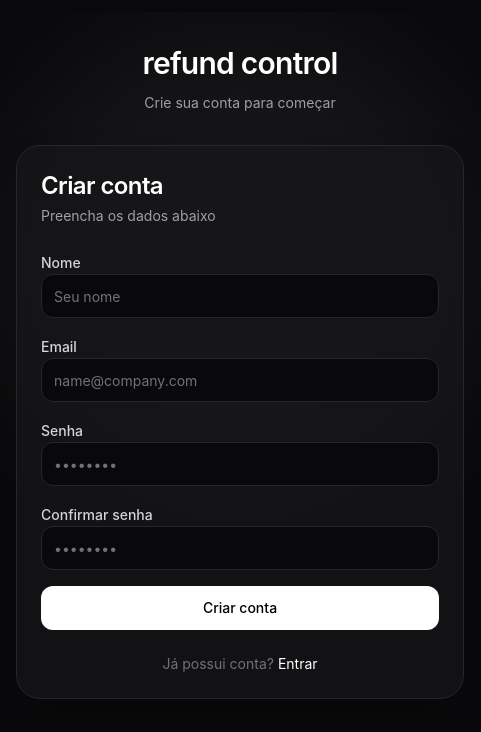
SignupForm - validações › deve exibir erro quando senhas não coincidem
Type "João" into the field with placeholder "Seu nome" at x=240, y=296, box [41,274,439,318]
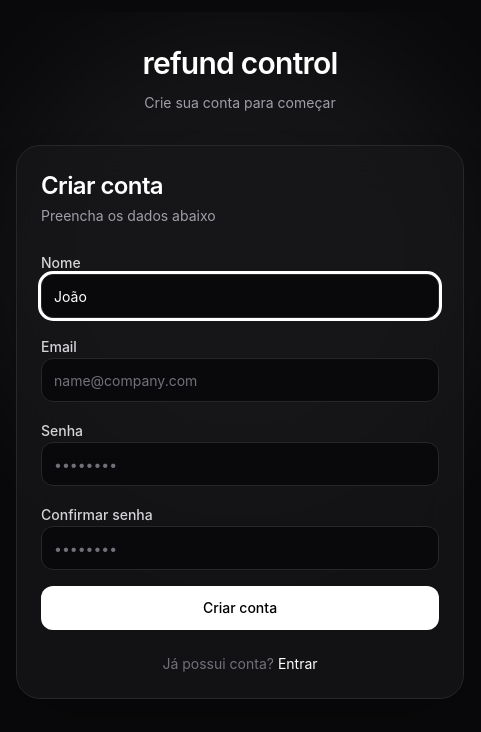
Type "joao@email.com" into the field with placeholder "name@company.com" at x=240, y=380, box [41,358,439,402]
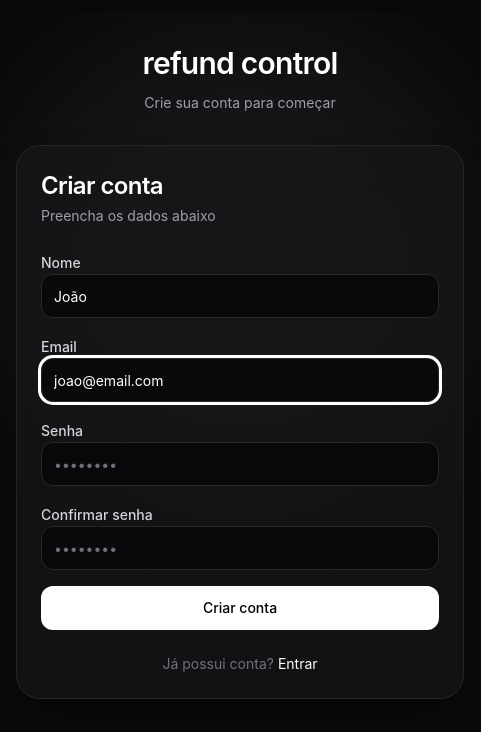
Type "senha123" into the 1st password field with placeholder "••••••••" at x=240, y=464, box [41,442,439,486]
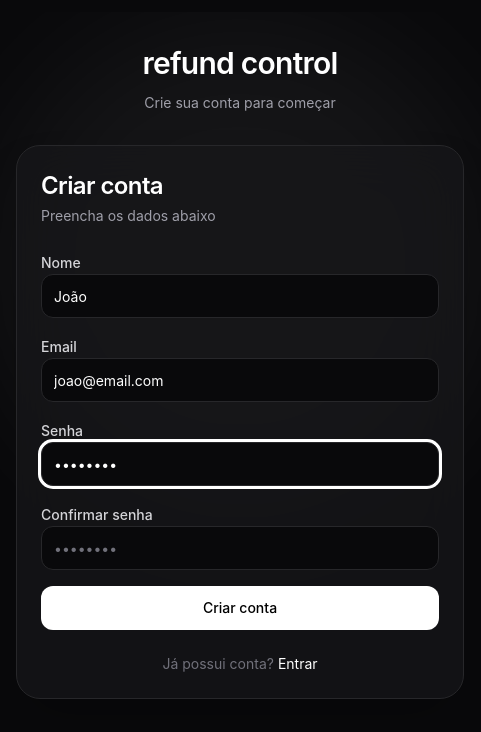
Type "senha456" into the password field with placeholder "••••••••" at x=240, y=548, box [41,526,439,570]
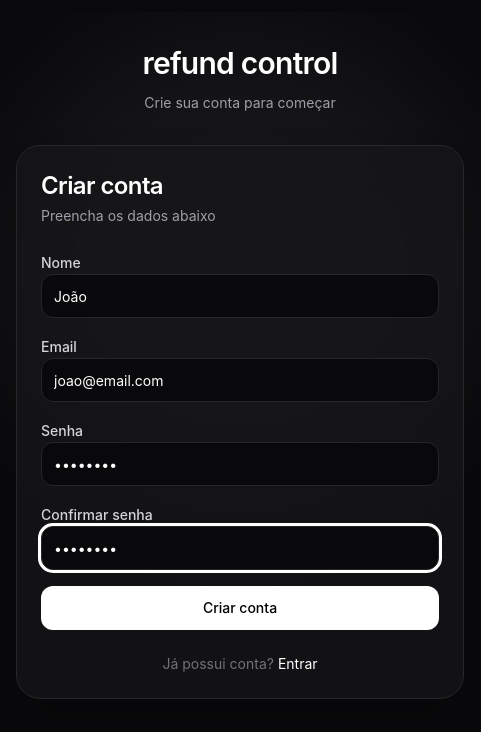
Click the button "Criar conta" at x=240, y=608, box [41,586,439,630]
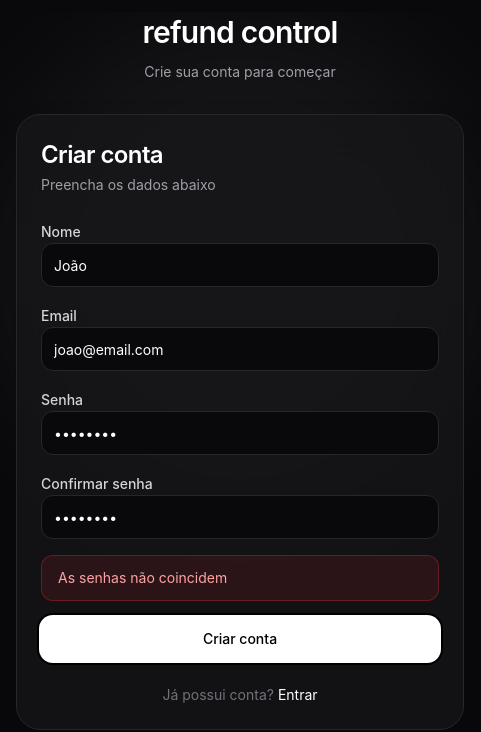
Now the text "As senhas não coincidem" is shown, box [41,555,439,601]
